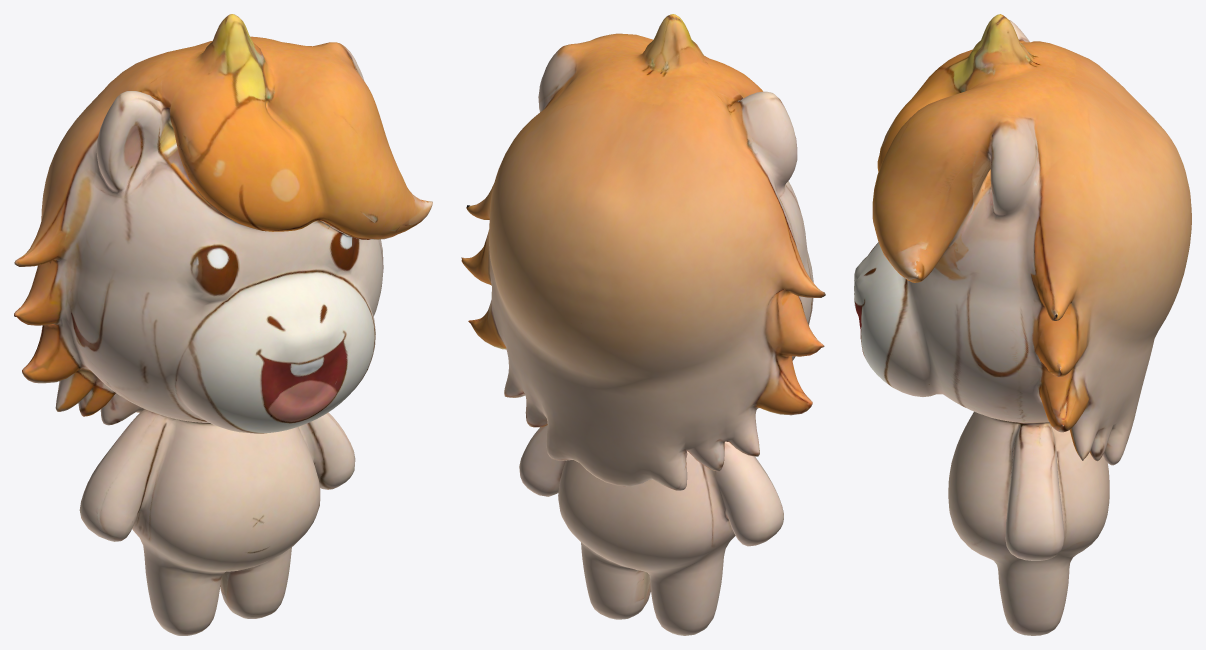
File: Yucca2.glb
3 renders of one model, left to right at view 1: azimuth 30°, elevation 25°; view 2: azimuth 150°, elevation 25°; view 3: azimuth 270°, elevation 25°, orthographic. The views are drawn at different scales.
Parts seen in each view (by area): view 1: Mesh_0; view 2: Mesh_0; view 3: Mesh_0.
Part boxes in pixels (box(x1,y1,x2,y2)): Mesh_0: box(14, 14, 432, 635); Mesh_0: box(461, 14, 825, 635); Mesh_0: box(854, 14, 1191, 635).
Size of the model in its own units: 1.26 by 1.99 by 1.01.
1 material, 1 textured.
